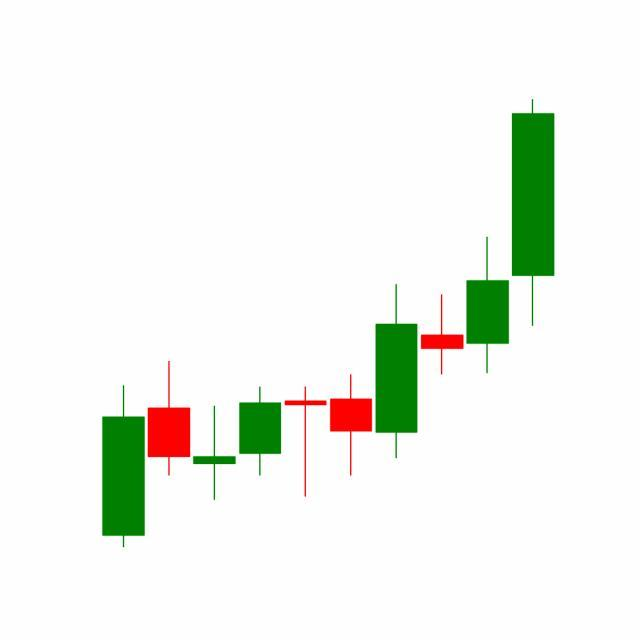Hikkake Pattern: (283, 235, 512, 501)
